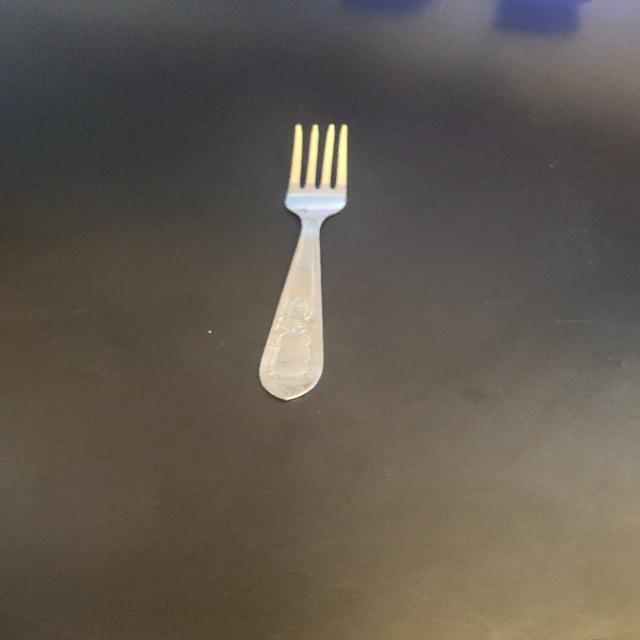plastic utensil: (260, 124, 347, 400)
